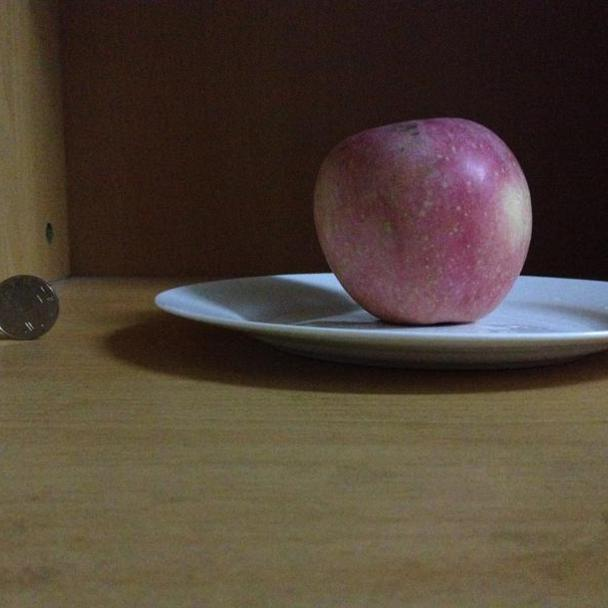apple: (313, 117, 533, 327)
